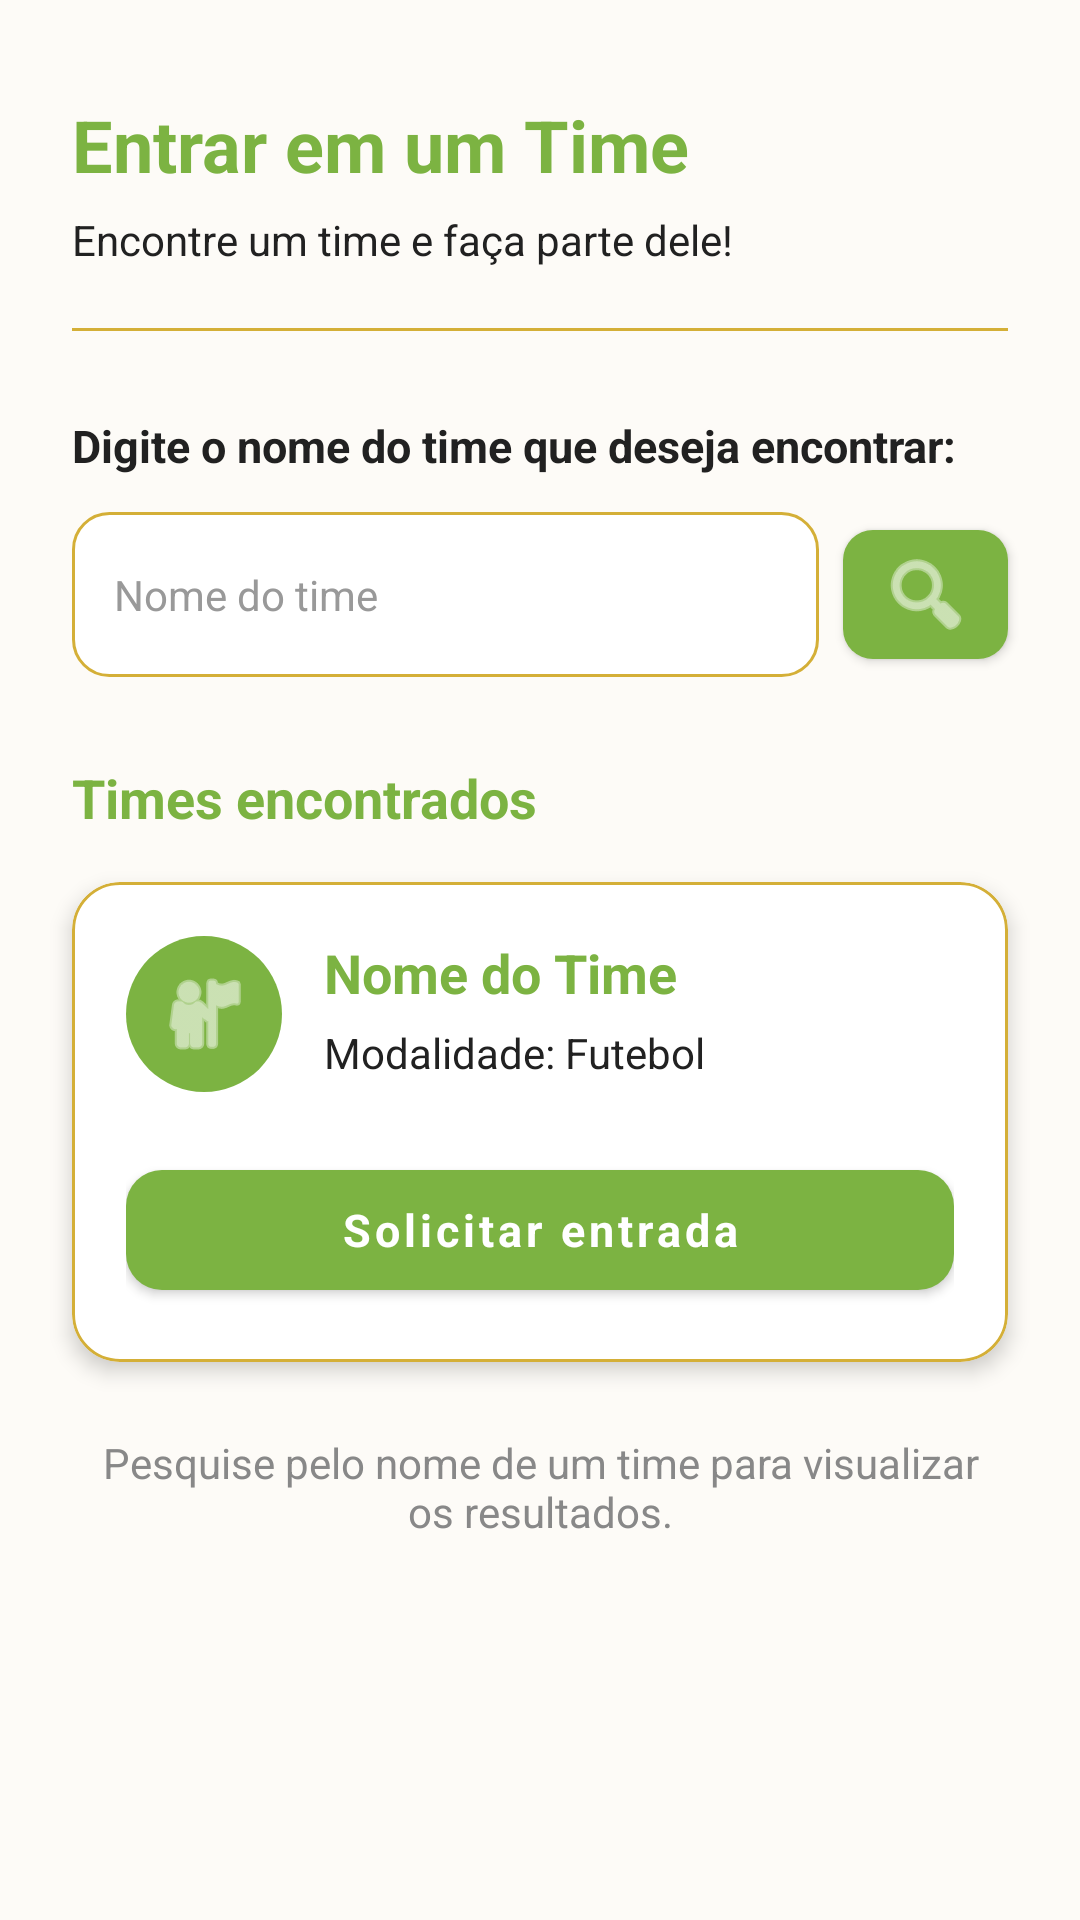

Where icons sit on this 1080w x 1920h app screen, as bbox=[x1, y1, x2, y2]:
Pesquisar time: bbox=[843, 530, 1008, 660]
